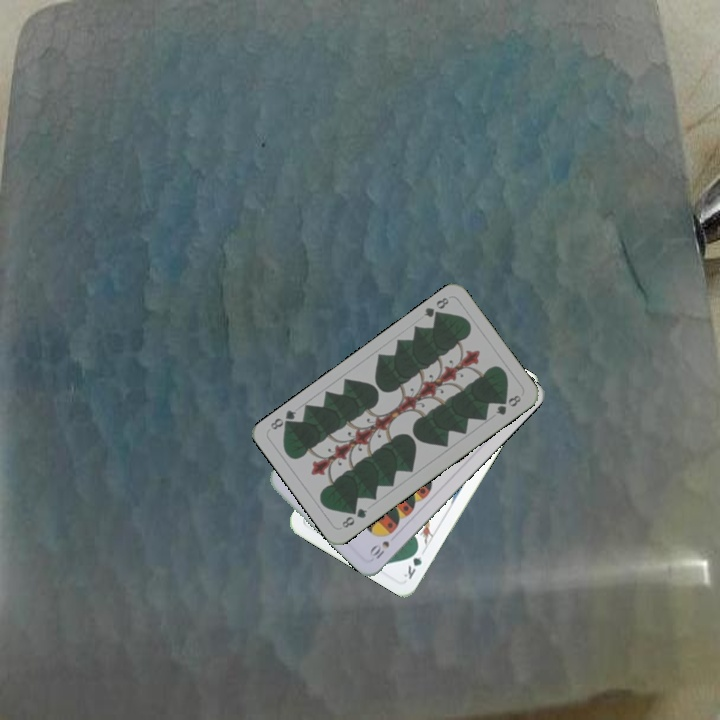G8: (420, 293, 451, 323), (338, 504, 370, 531)
GK: (400, 543, 424, 582)
S10: (366, 537, 392, 562)
